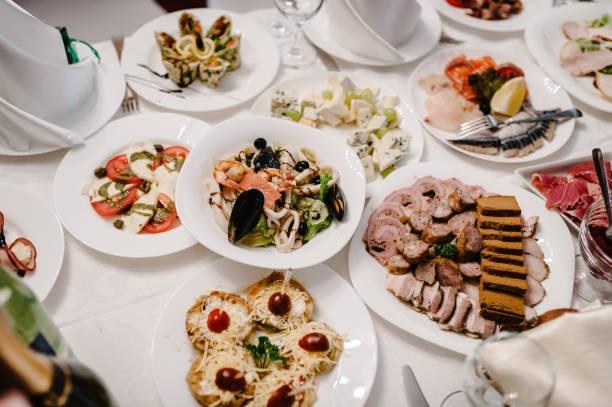Braised Crucian Carp: (345, 161, 570, 355), (149, 256, 373, 407), (171, 113, 370, 275), (52, 109, 216, 260), (408, 45, 576, 162), (122, 7, 279, 115)
